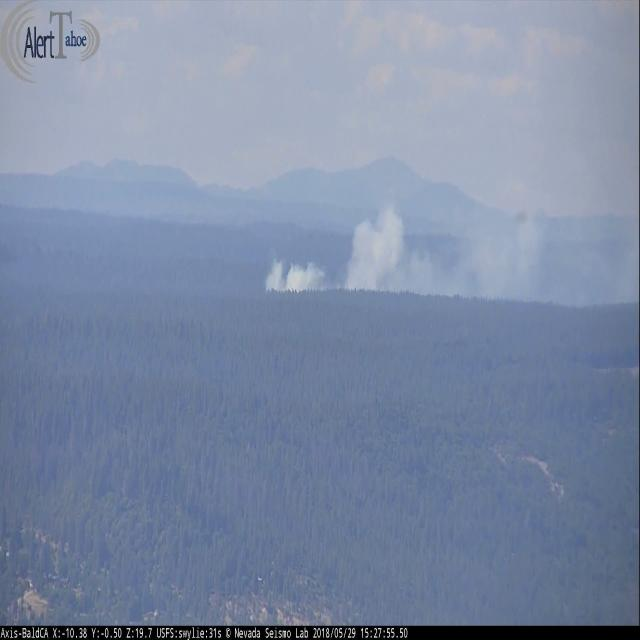smoke: (266, 207, 545, 294)
